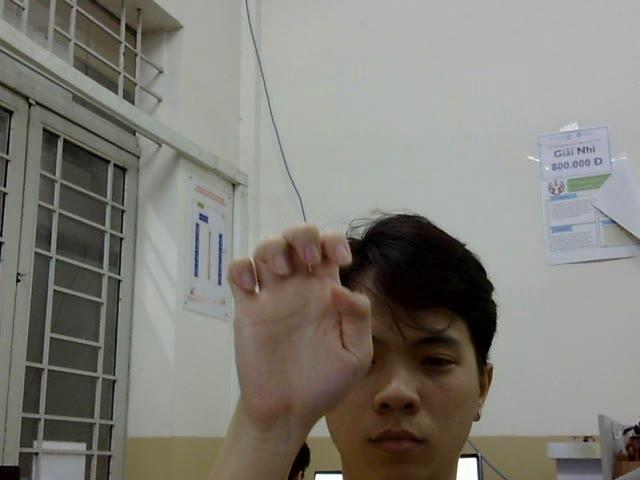E: (224, 222, 373, 418)
